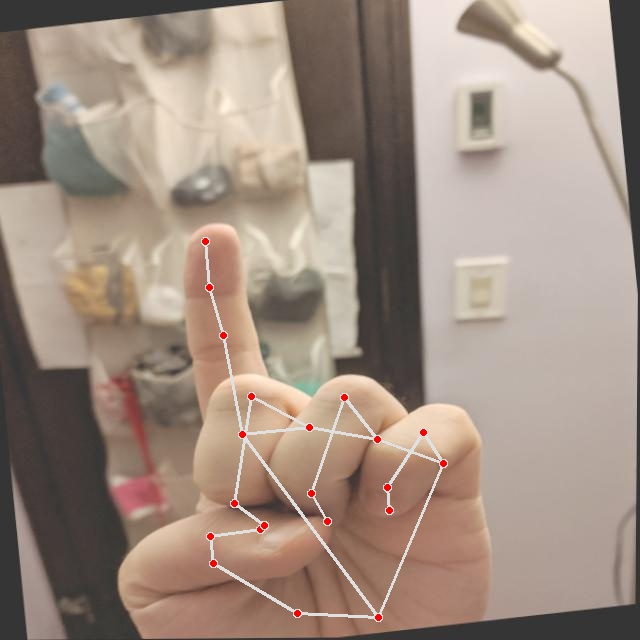D: (75, 189, 513, 639)
